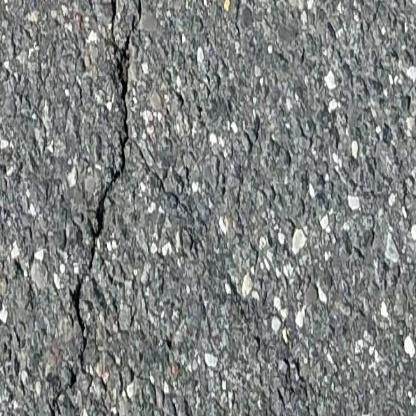Cracks: (46, 0, 150, 416)
